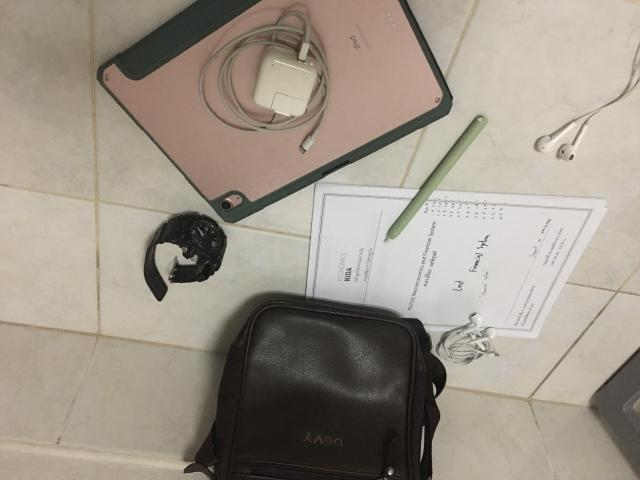Watch: (144, 214, 226, 301)
paper: (302, 184, 605, 339)
wire: (199, 10, 330, 152), (536, 44, 640, 161), (436, 312, 499, 365)
